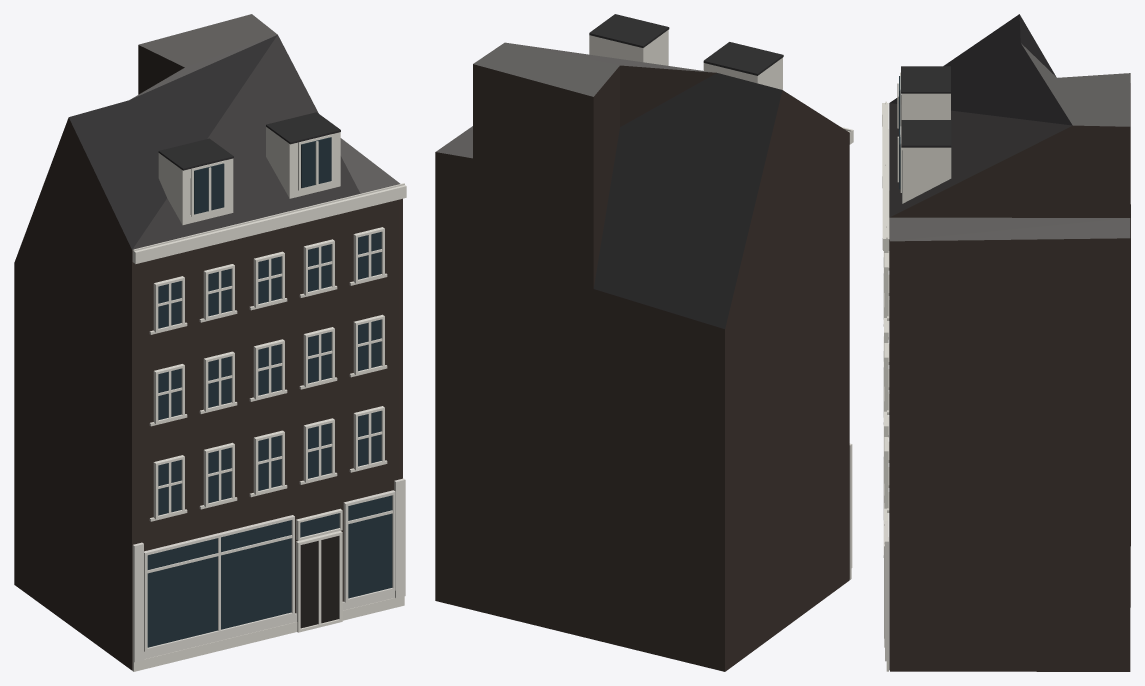
3 views of the same model, side by side, from view 1: azimuth 30°, elevation 25°; view 2: azimuth 150°, elevation 25°; view 3: azimuth 270°, elevation 25° (orthographic). The views are drawn at different scales.
Visible parts, largest first — view 1: spec-0363100012171707; view 2: spec-0363100012171707; view 3: spec-0363100012171707.
Part boxes in pixels (x1,y1,x2,y2): spec-0363100012171707: (14,14,406,671); spec-0363100012171707: (435,14,853,671); spec-0363100012171707: (882,14,1130,671).
Bounding box in the file's own units: 8.59 × 15.47 × 6.61.
